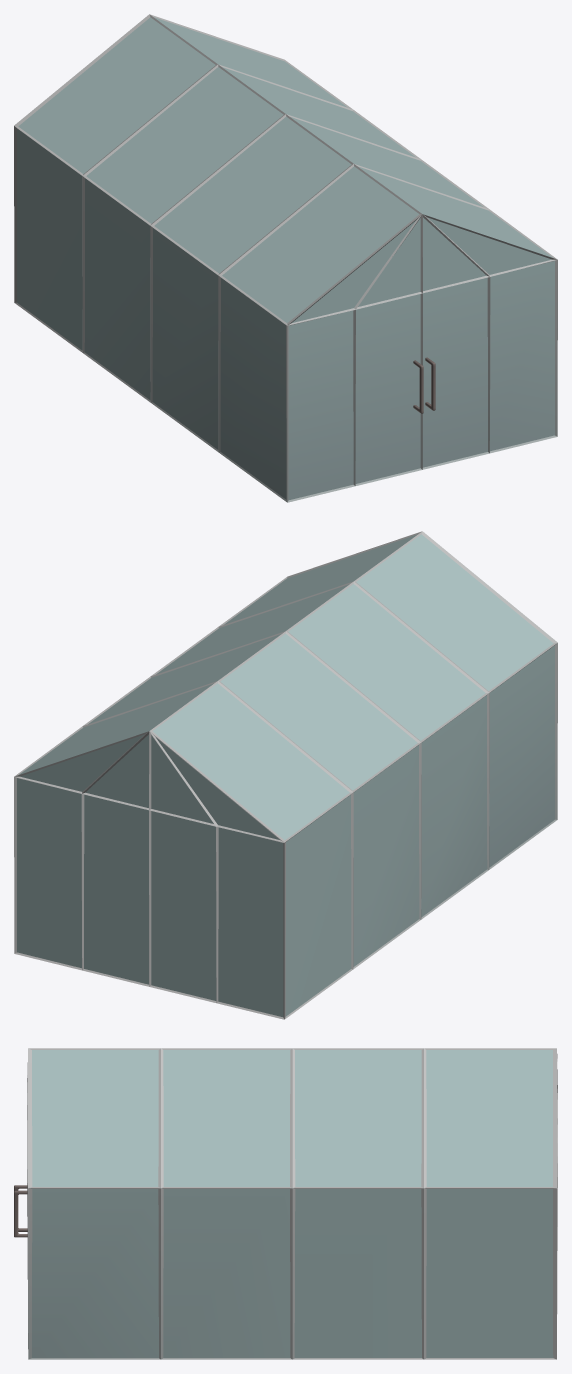
Rendered from greenhouse.fbx.
3 views of the same model, one above another, from view 1: azimuth 30°, elevation 25°; view 2: azimuth 150°, elevation 25°; view 3: azimuth 270°, elevation 25° (orthographic). The views are drawn at different scales.
Parts seen in each view (by area): view 1: Cube.160; view 2: Cube.160; view 3: Cube.160.
Boxes of the visible parts, x1,y1,x2,y2 form: Cube.160: (14, 14, 557, 502); Cube.160: (14, 531, 557, 1019); Cube.160: (14, 1048, 557, 1359).
Size of the model in its own units: 972 by 876 by 1744.
